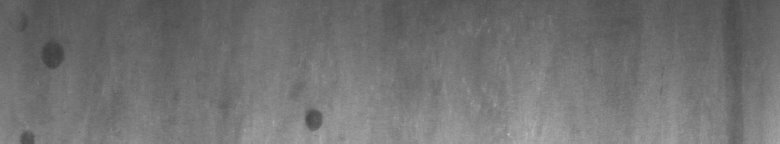fi: (299, 104, 328, 136)
